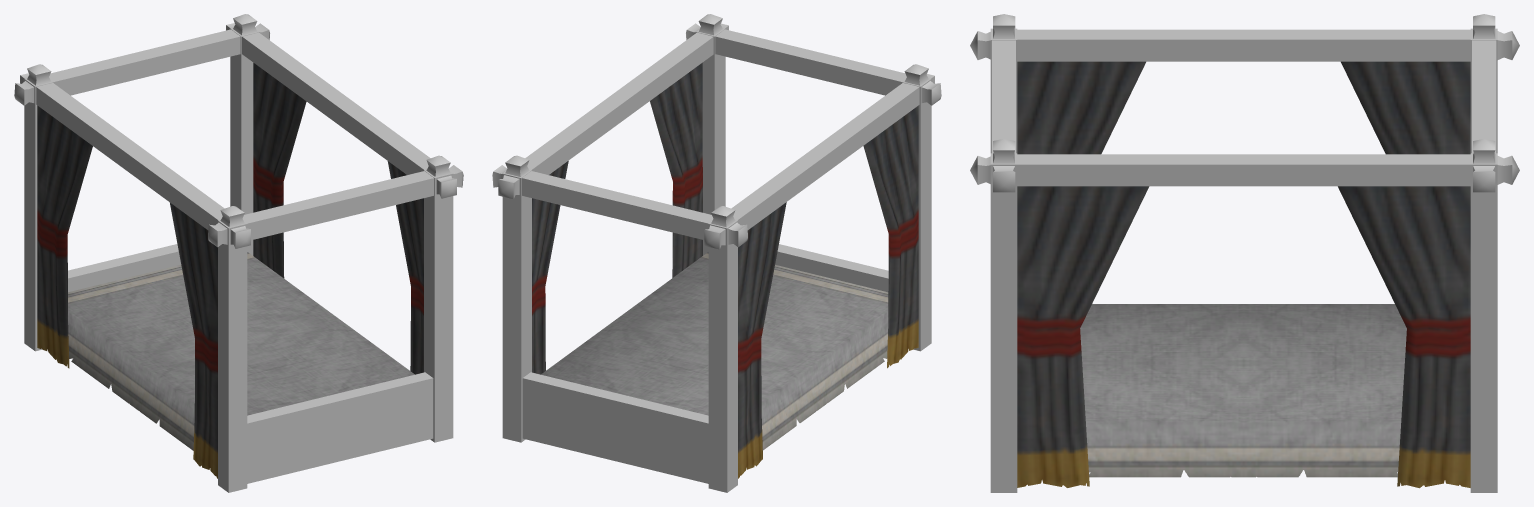
File: Bed_7C.fbx
3 renders of one model, left to right at view 1: azimuth 30°, elevation 25°; view 2: azimuth 150°, elevation 25°; view 3: azimuth 270°, elevation 25°, orthographic. The views are drawn at different scales.
Visible parts, largest first — view 1: polySurface7936, Alpha; view 2: polySurface7936, Alpha; view 3: Alpha, polySurface7936.
Part boxes in pixels (left/top/right/bottom): polySurface7936: left=14, top=14, right=463, bottom=492; Alpha: left=37, top=63, right=423, bottom=478; polySurface7936: left=492, top=14, right=941, bottom=492; Alpha: left=532, top=62, right=918, bottom=478; Alpha: left=1017, top=61, right=1470, bottom=488; polySurface7936: left=970, top=14, right=1519, bottom=492.
Bounding box in the file's own units: 2.73 × 2.87 × 4.1.
